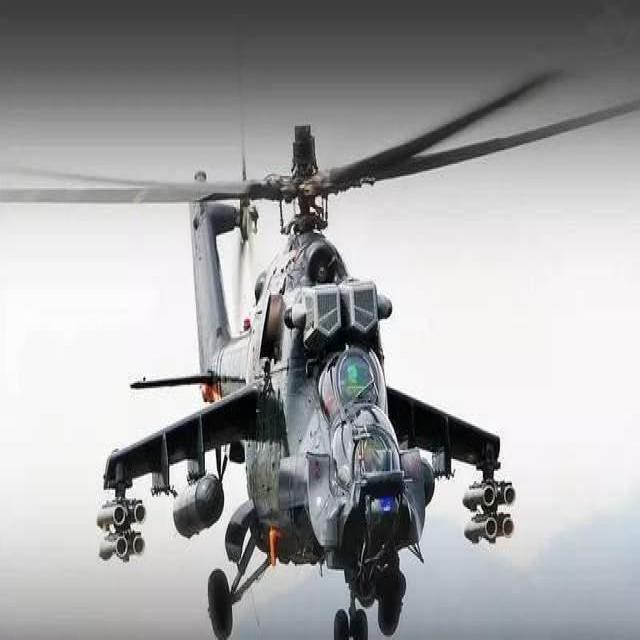MIL_HELO: (1, 60, 640, 640)
